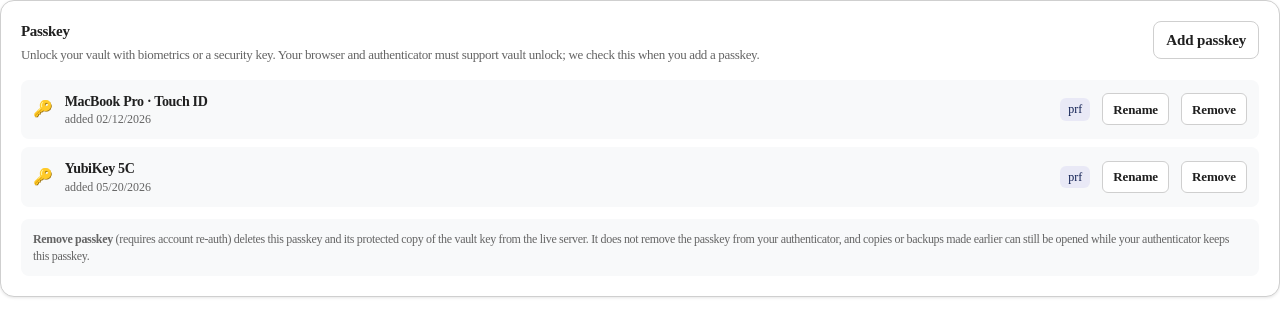
P03-T20B Settings passkey list, rename, revoke and auto-lock (Task 20 20B) › 20B: 404 passkey_not_found for an id this client did NOT revoke shows an error and reloads the list
The image size is (1280, 315).
Check: the list with test id "settings-passkey-list" is shown, box [21, 80, 1259, 207]
Click the button "Remove" in the row of "MacBook Pro · Touch ID".
click(1214, 109)  # box [1181, 93, 1247, 125]
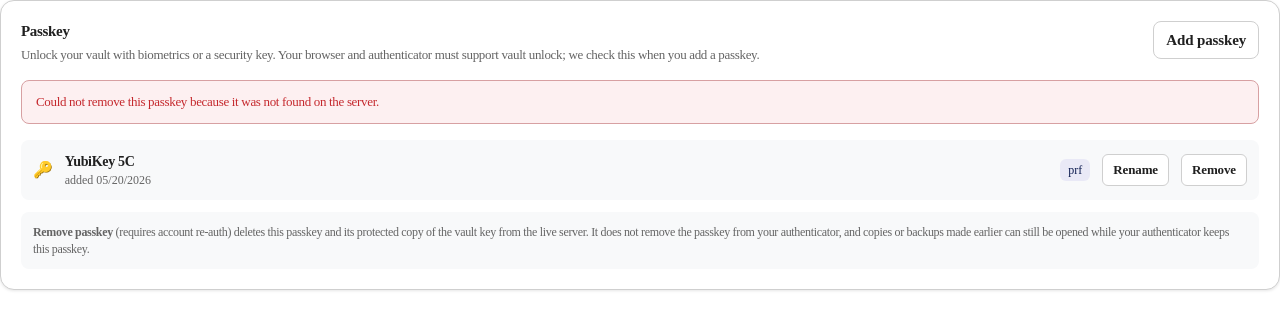
Check: the element with test id "settings-passkey-error" reads "Could not remove this passkey because it was not found on the server.", box [36, 94, 379, 108]
